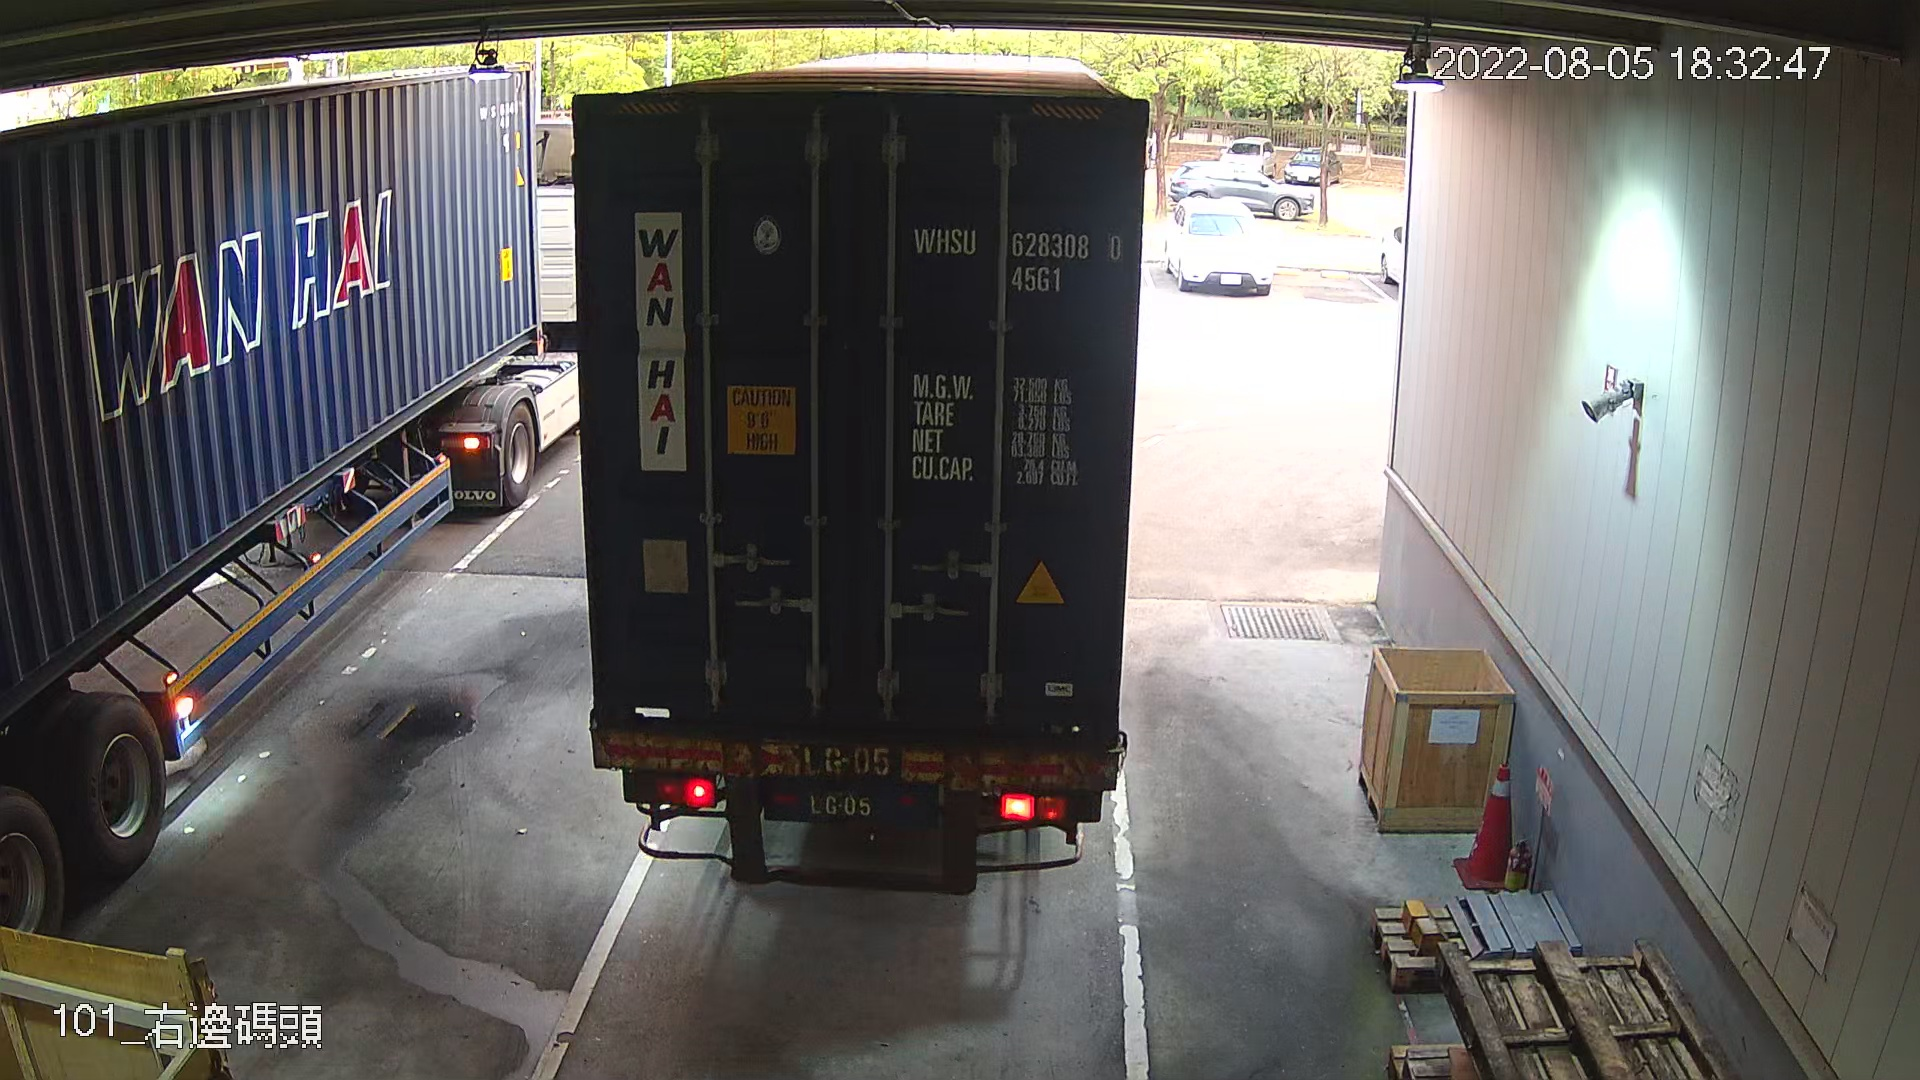container: (899, 214, 1129, 305)
